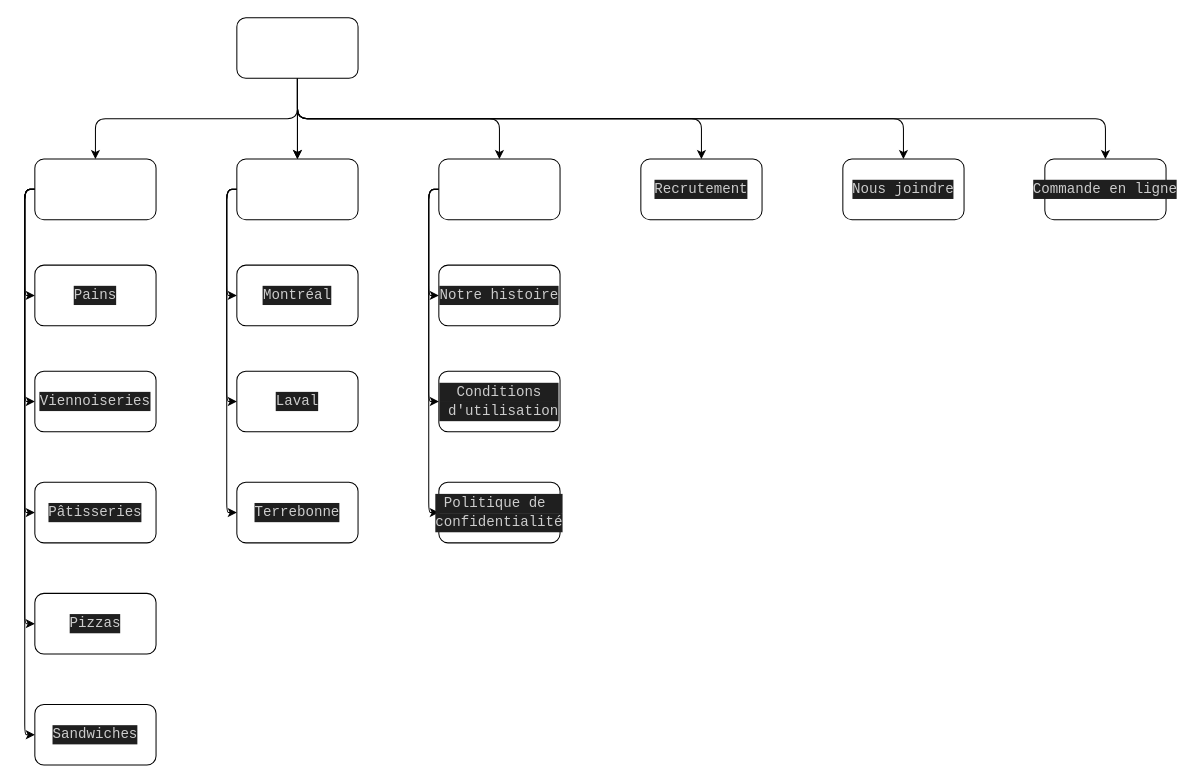
Image size: 1195x783. Some labels were removed from this diagram. The centre of each missing label's shape, as x and y in pixels:
"Accueil" goes at (297,47).
"FAQ" goes at (499,189).
"Nos boutiques" goes at (297,189).
"Nos produits" goes at (95,189).
